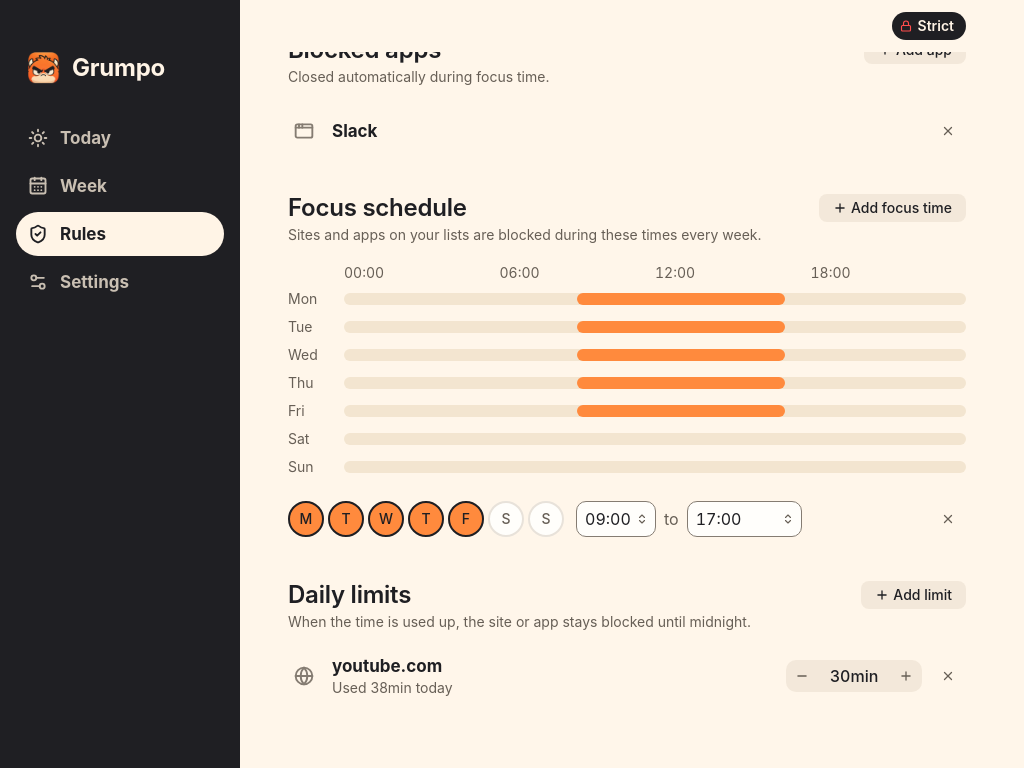
Test: saving while focus is locked › locks raising a daily limit even when there is no block right now
The image size is (1024, 768).
(page scrolled)
Click the button named "Increase the daily limit for youtube.com" at point(906, 676), box [892,662,920,690]
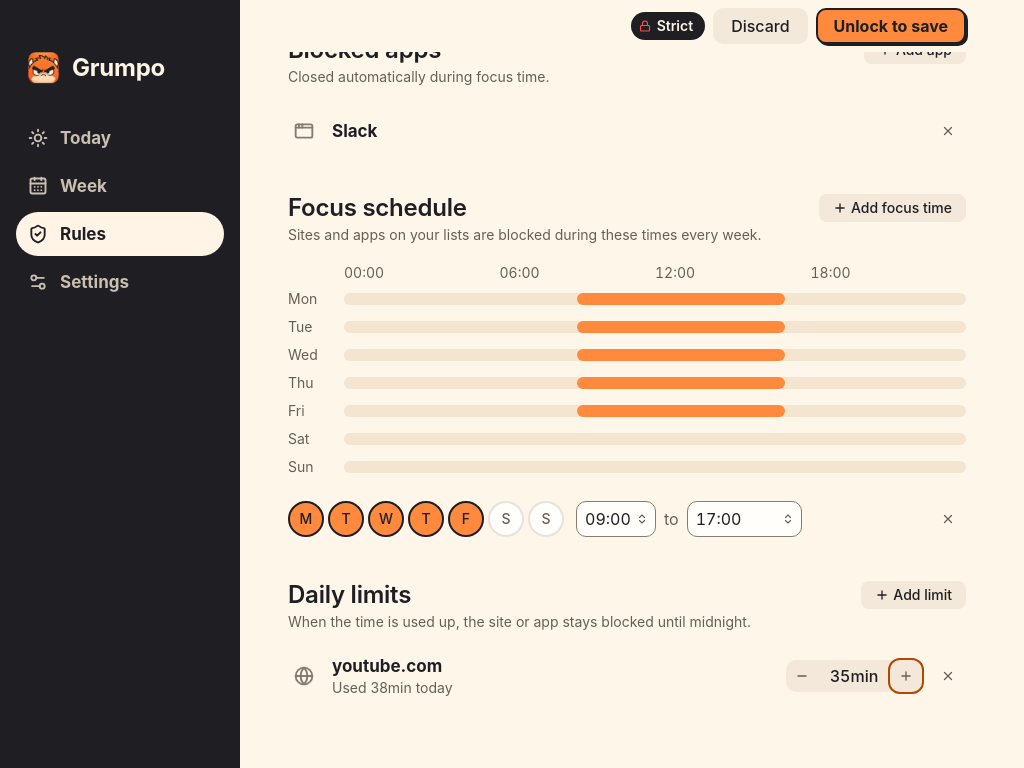
Now the button "Unlock to save" is shown, box [816,8,966,44]
